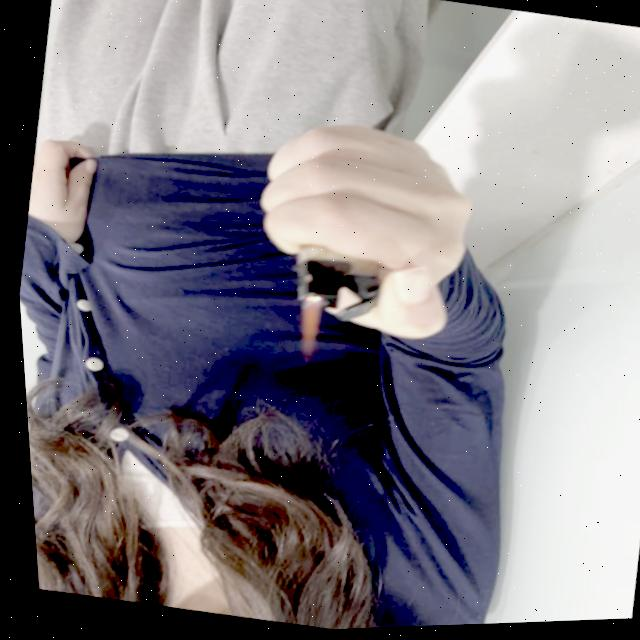Fire: (289, 294, 322, 360)
